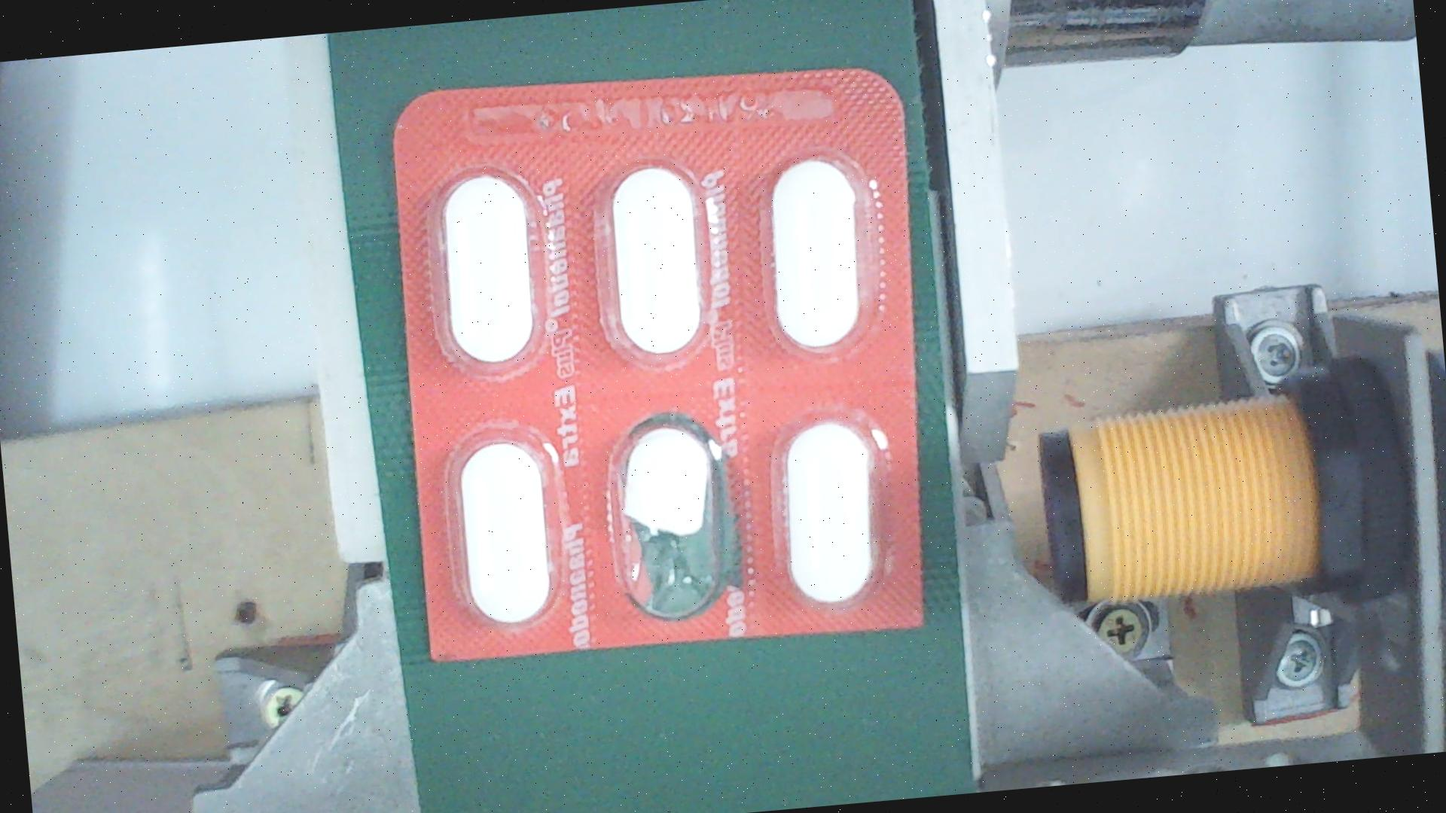Full: (755, 134, 881, 363), (594, 147, 720, 376), (422, 158, 548, 387), (442, 406, 568, 635), (768, 387, 894, 616)
Partial: (609, 402, 735, 631)
